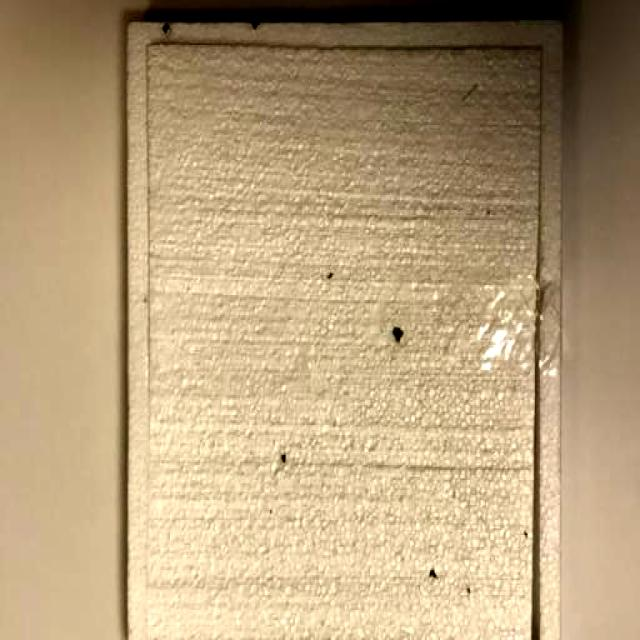Trash: (118, 12, 563, 640)
